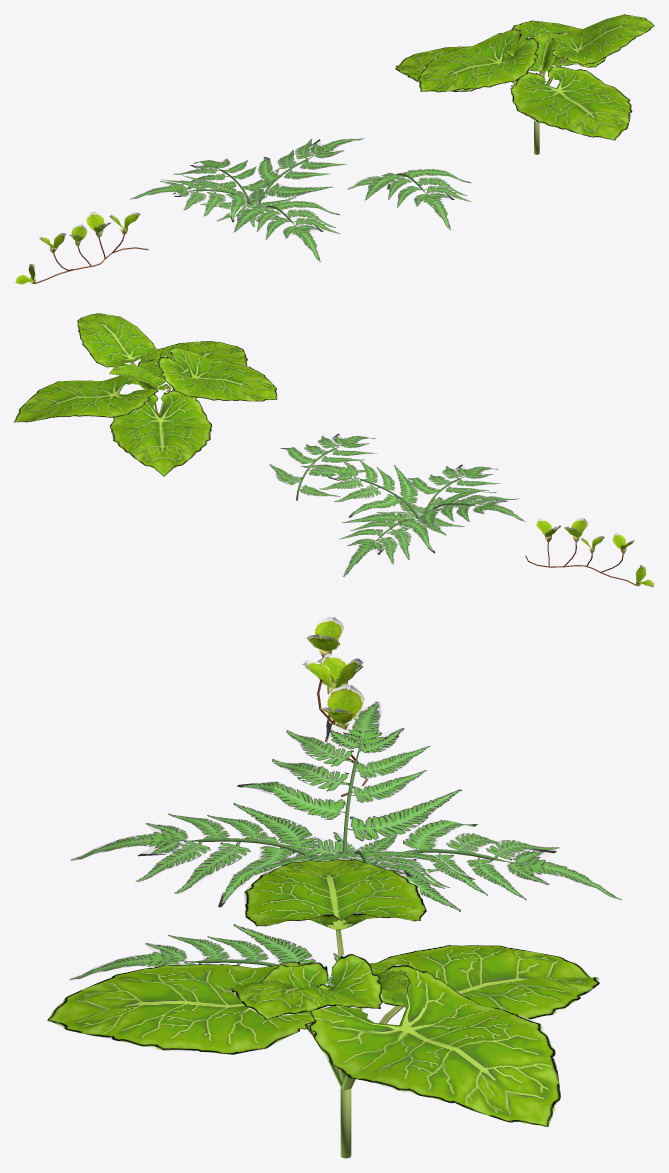
The model's file is Plants4.fbx.
3 renders of one model, top to bottom at view 1: azimuth 30°, elevation 25°; view 2: azimuth 150°, elevation 25°; view 3: azimuth 270°, elevation 25°, orthographic. The views are drawn at different scales.
Visible parts, largest first — view 1: UbayuriMatome.003, ShibaMatome.003, ShibaMTanpin, iwagaramiMatome.002; view 2: UbayuriMatome.003, ShibaMatome.003, ShibaMTanpin, iwagaramiMatome.002; view 3: UbayuriMatome.003, ShibaMatome.003, ShibaMTanpin, iwagaramiMatome.002.
Boxes of the visible parts, x1,y1,x2,y2 form: UbayuriMatome.003: (395,14,654,154); ShibaMatome.003: (129,138,364,262); ShibaMTanpin: (347,169,471,230); iwagaramiMatome.002: (14,211,148,284); UbayuriMatome.003: (14,313,277,476); ShibaMatome.003: (300,459,525,577); ShibaMTanpin: (269,433,376,500); iwagaramiMatome.002: (525,518,654,587); UbayuriMatome.003: (47,859,599,1158); ShibaMatome.003: (70,701,621,911); ShibaMTanpin: (69,924,338,987); iwagaramiMatome.002: (302,616,368,796).
Bounding box in the file's own units: 1537 × 302 × 646.
